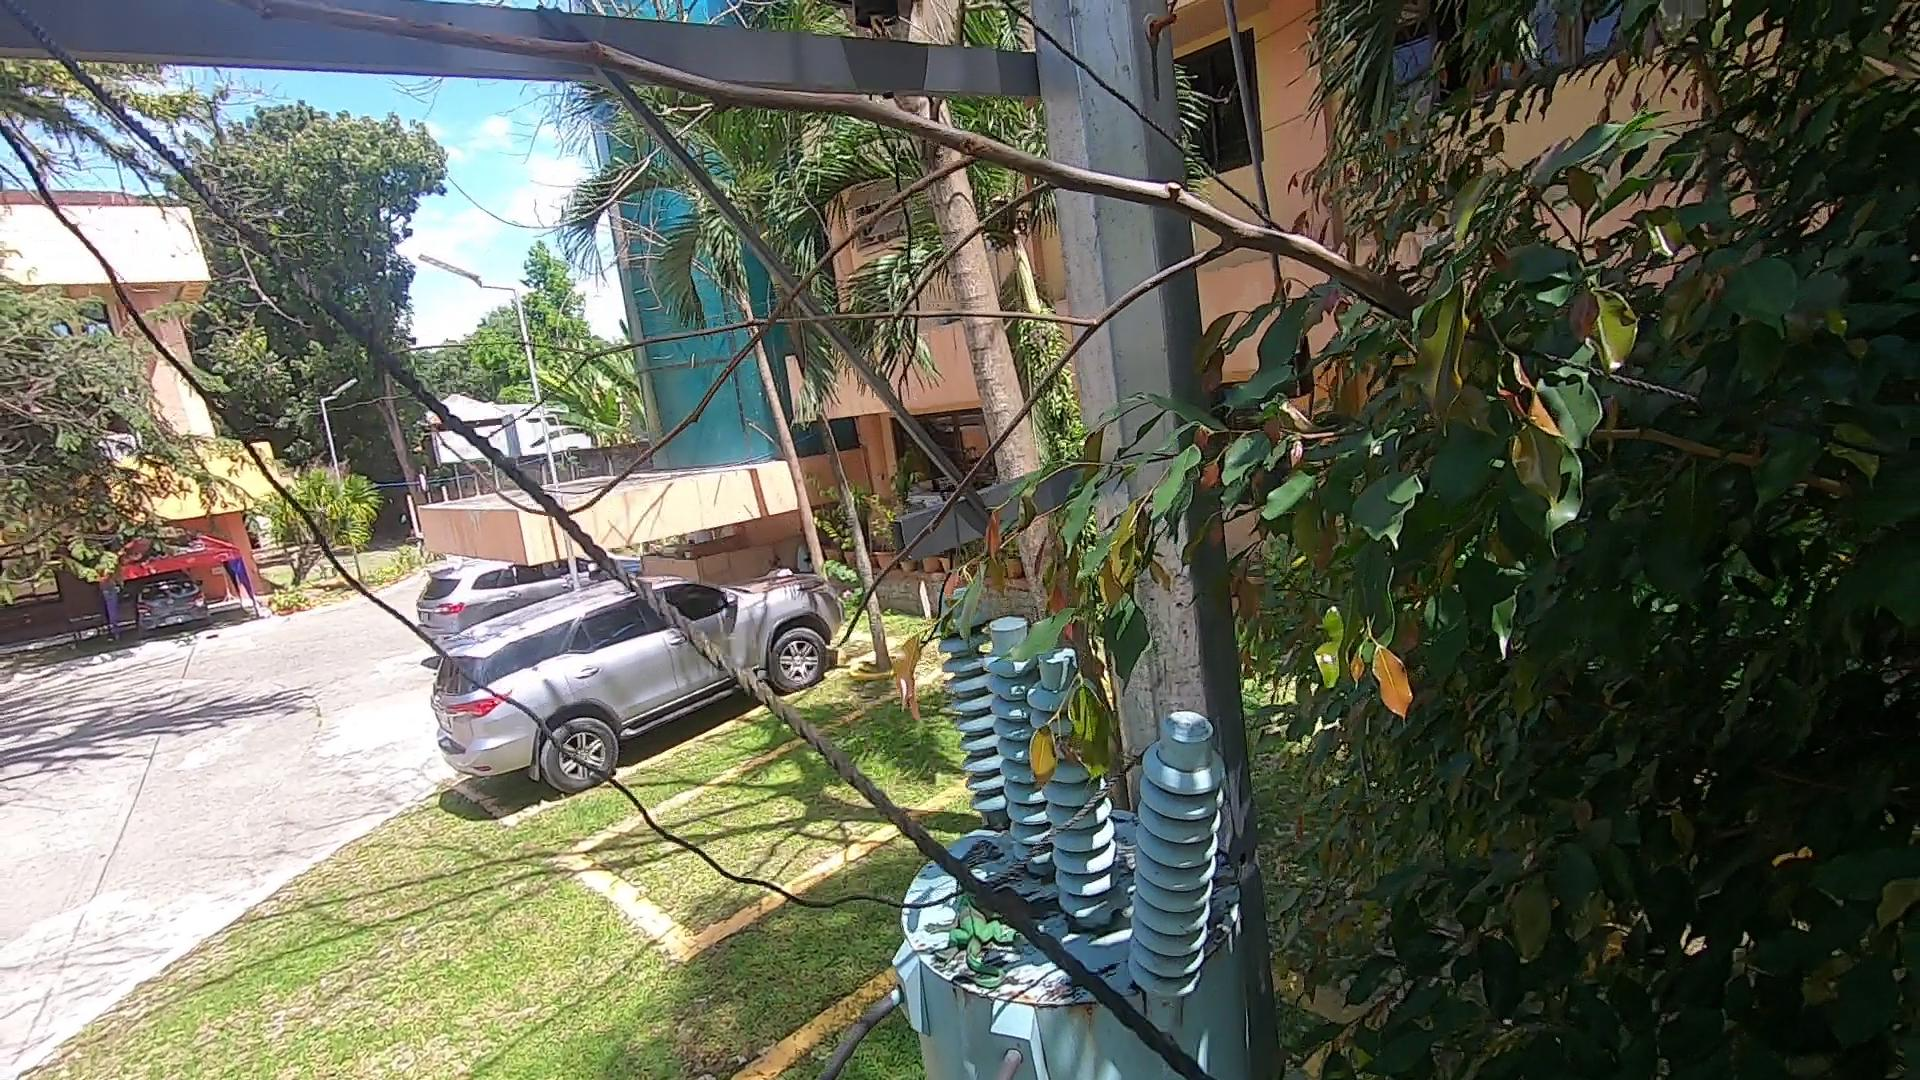leaf: (996, 881, 1047, 913)
tree branch: (153, 1, 1559, 678)
